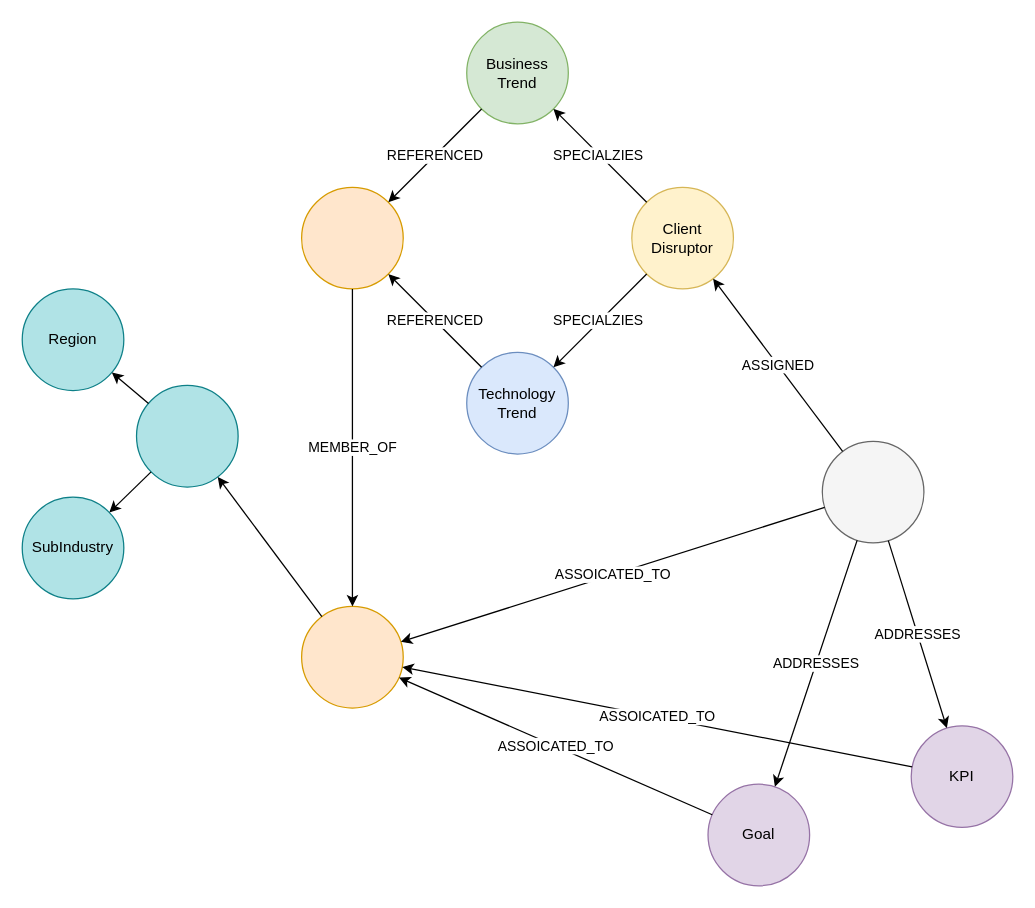
The diagram is 1035 pixels wide and 908 high, and some of its shapes have lost their labels. The centre of each missing label's shape, as x and y in pixels:
"Account" belongs at (x=186, y=435).
"ClientIdea" belongs at (x=872, y=491).
"Workspace" belongs at (x=351, y=237).
"Workspace Group" belongs at (x=351, y=656).
